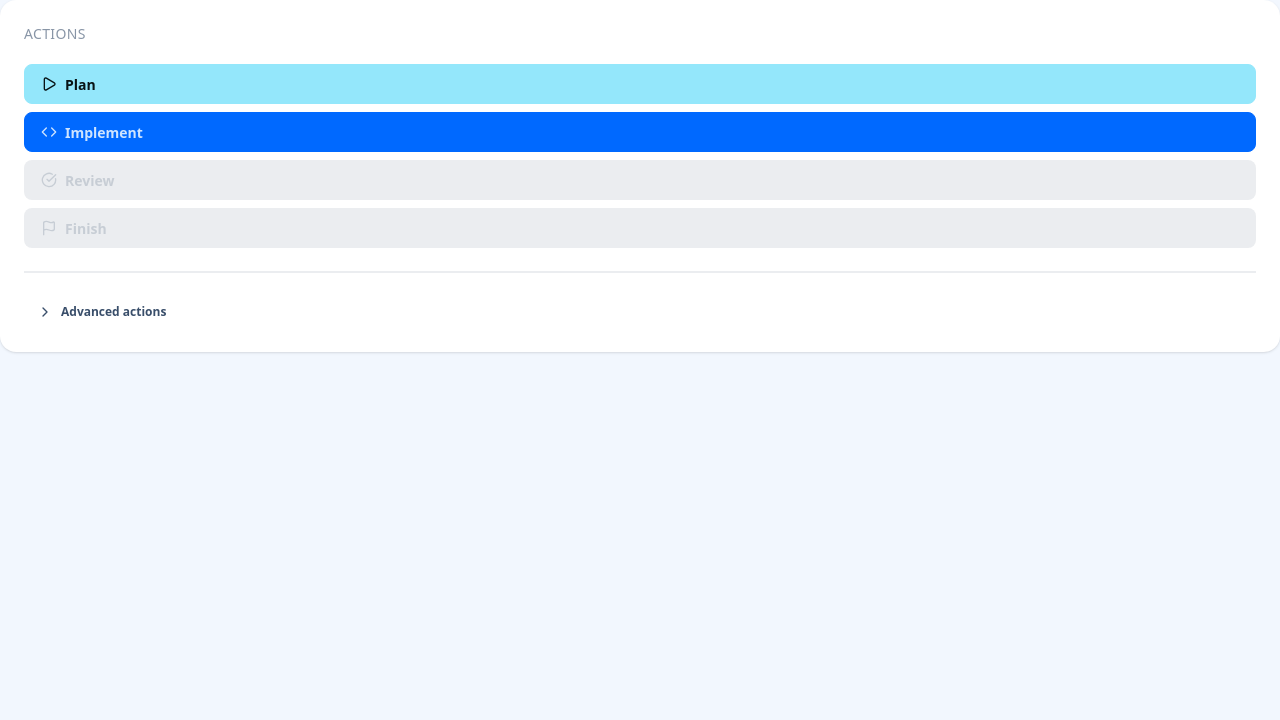
WorkflowActions › shows implementation options panel when toggled
The width and height of the screenshot is (1280, 720).
First expand advanced actions
Click the button "Advanced actions" at (114, 312), box [24,296,1256,328]
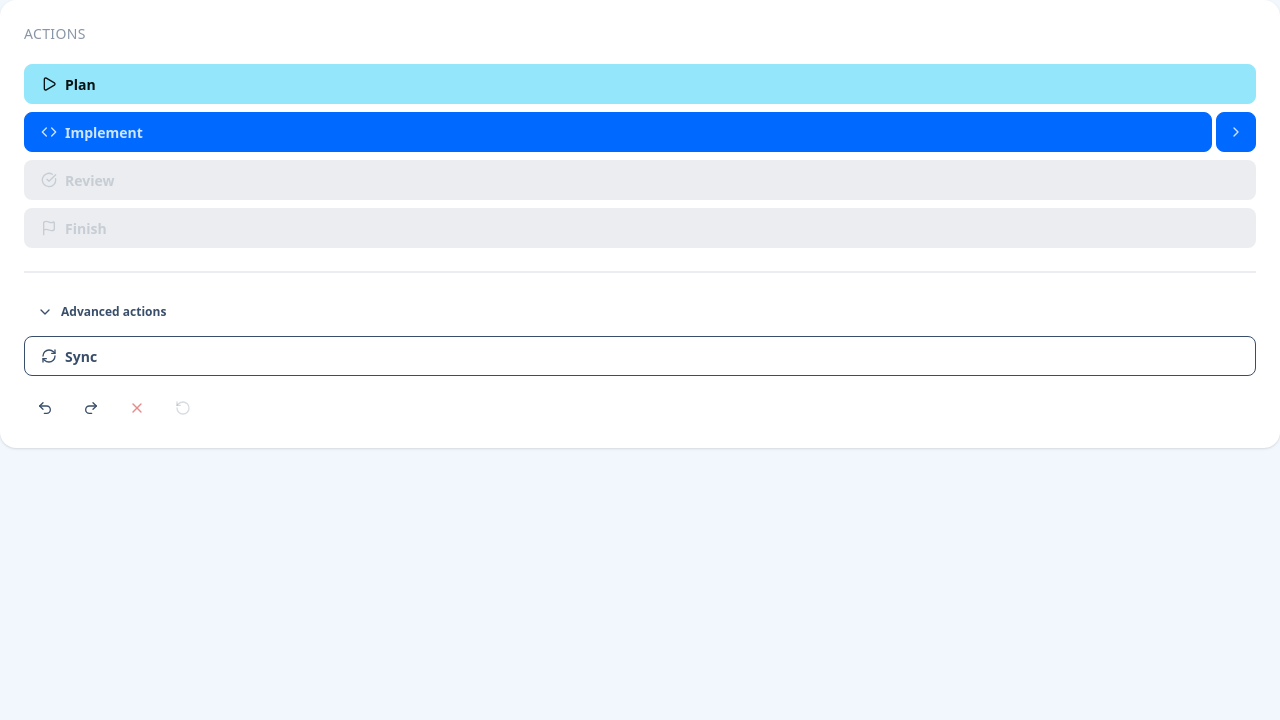
Then click the implement options chevron
Click the button named "implementation options" at (1236, 132), box [1216,112,1256,152]
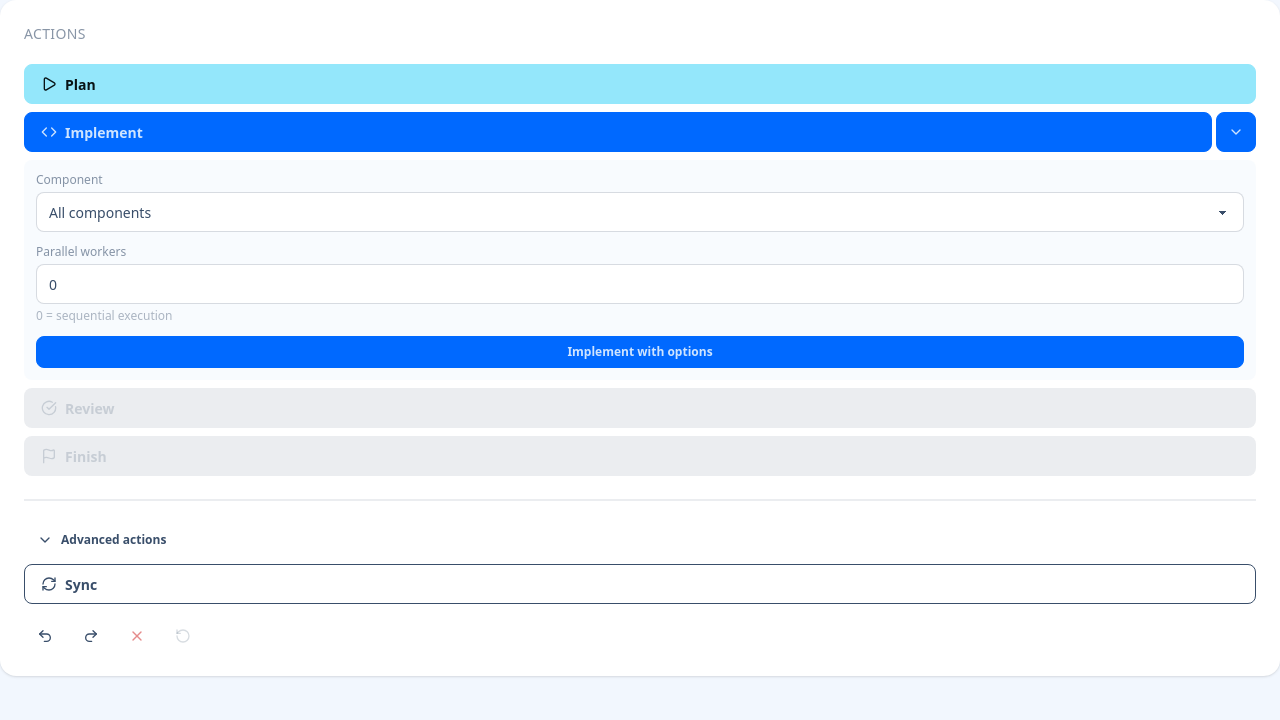
Result: the dropdown labelled "Component" is shown at [36,192,1244,232]
Result: the number field labelled "Parallel workers" is shown at [36,264,1244,304]
